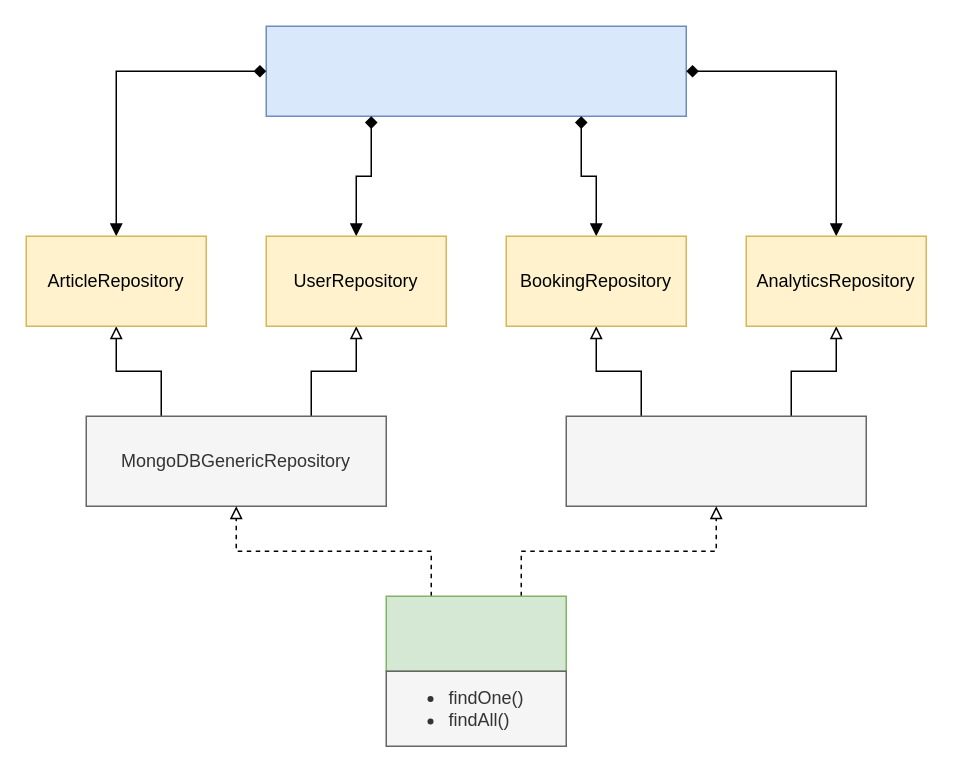
Image size: 953x774. Some labels were removed from this diagram. Each missing label, with the centre of its shape:
<< interface >> GenericRepository: point 475,633
PosgresGenericRepository: point 715,460
Repository: point 475,70
